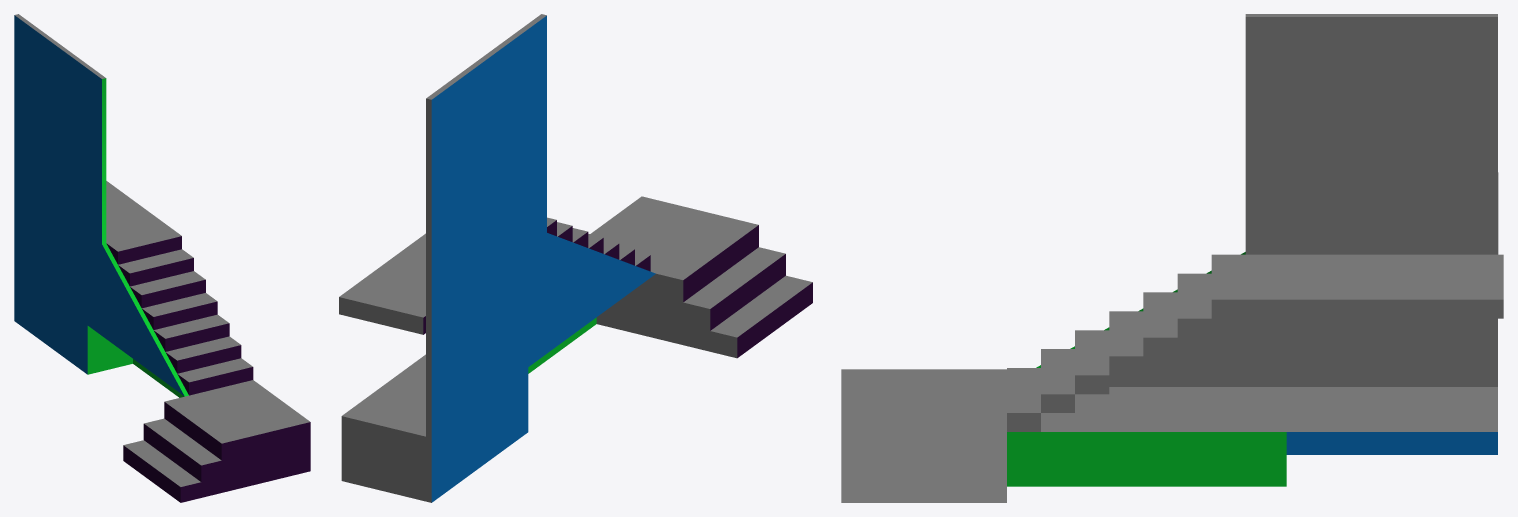
File: escalerasnuevas.fbx
3 renders of one model, left to right at view 1: azimuth 30°, elevation 25°; view 2: azimuth 150°, elevation 25°; view 3: azimuth 270°, elevation 25°, orthographic. The views are drawn at different scales.
Parts seen in each view (by area): view 1: Escaleras; view 2: Escaleras; view 3: Escaleras.
Part boxes in pixels (left/top/right/bottom): Escaleras: left=14, top=14, right=310, bottom=502; Escaleras: left=339, top=14, right=812, bottom=502; Escaleras: left=841, top=14, right=1503, bottom=502.
Bounding box in the file's own units: 64.74 × 146 × 198.
